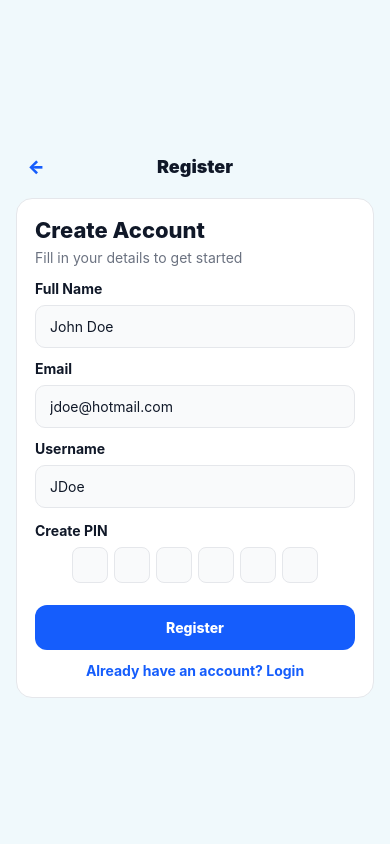
Test: Register Screen › shows error when PIN is incomplete
The width and height of the screenshot is (390, 844).
Step 1. Type "1" into the field named "PIN digit 1" → (90, 565), box [72,547,108,583]
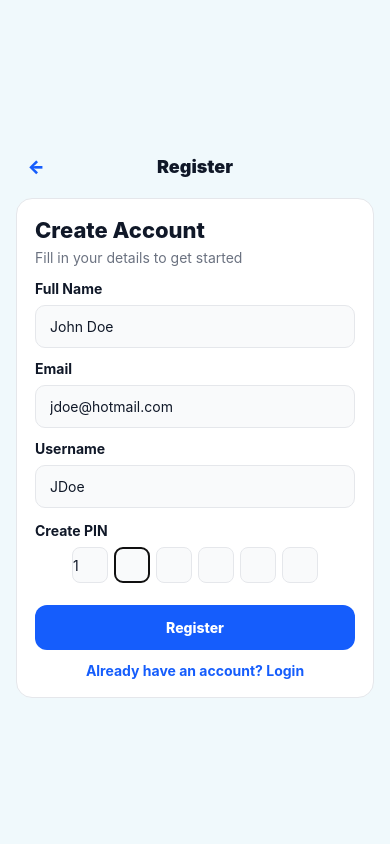
Step 2. Type "2" into the field named "PIN digit 2" → (132, 565), box [114,547,150,583]
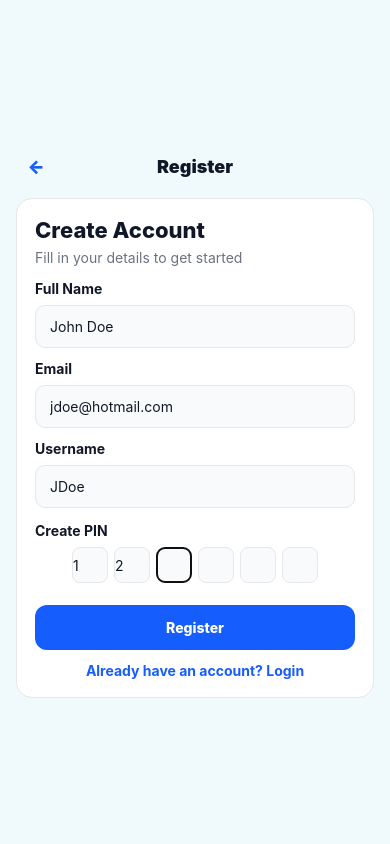
Step 3. Type "3" into the field named "PIN digit 3" → (174, 565), box [156,547,192,583]
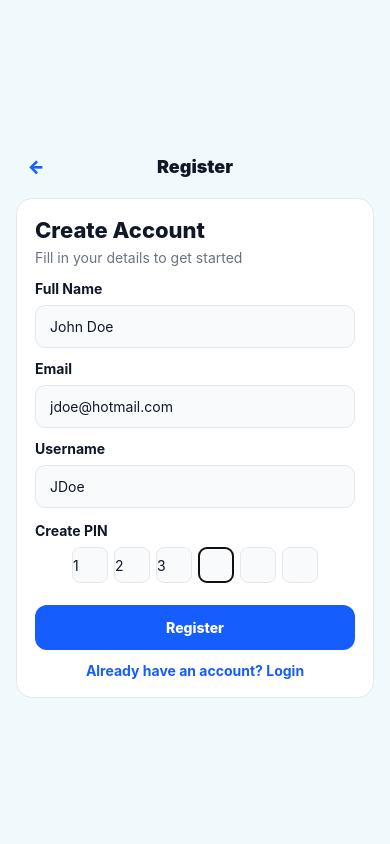
Step 4. Type "4" into the field named "PIN digit 4" → (216, 565), box [198,547,234,583]
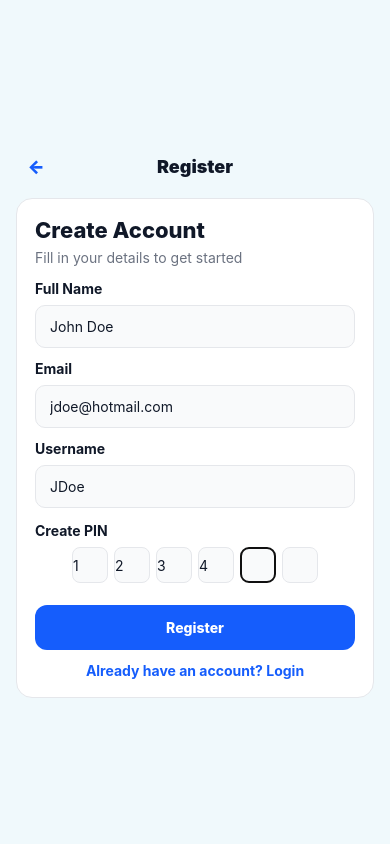
Step 5. Type "5" into the field named "PIN digit 5" → (258, 565), box [240,547,276,583]
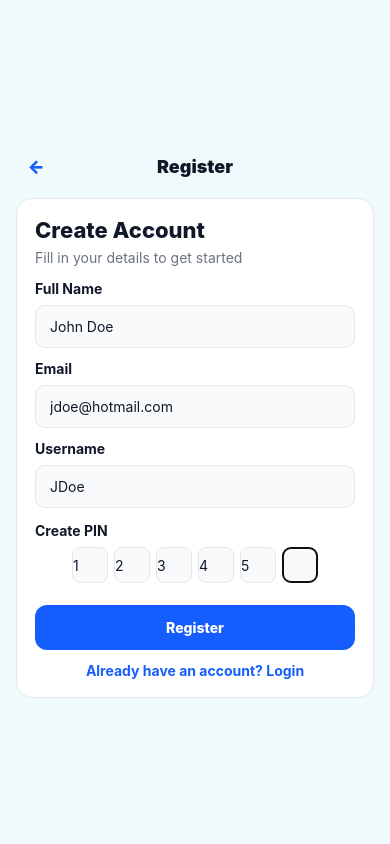
Step 6. Click the button "Register" → (195, 628), box [35,605,355,650]
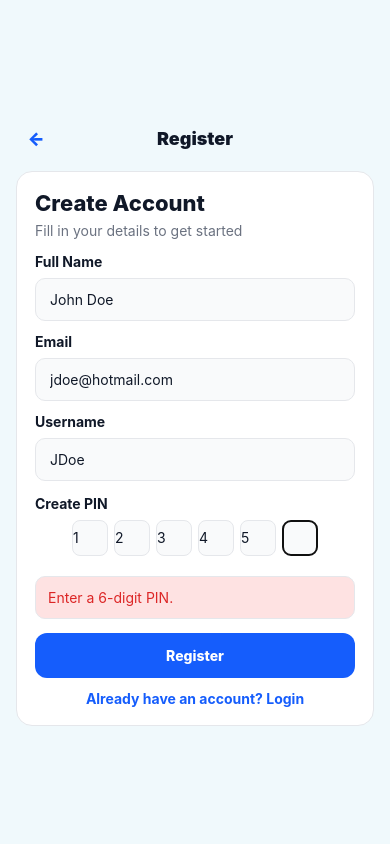
Expected: the text "Enter a 6-digit PIN." is shown, [48,588,173,606]
